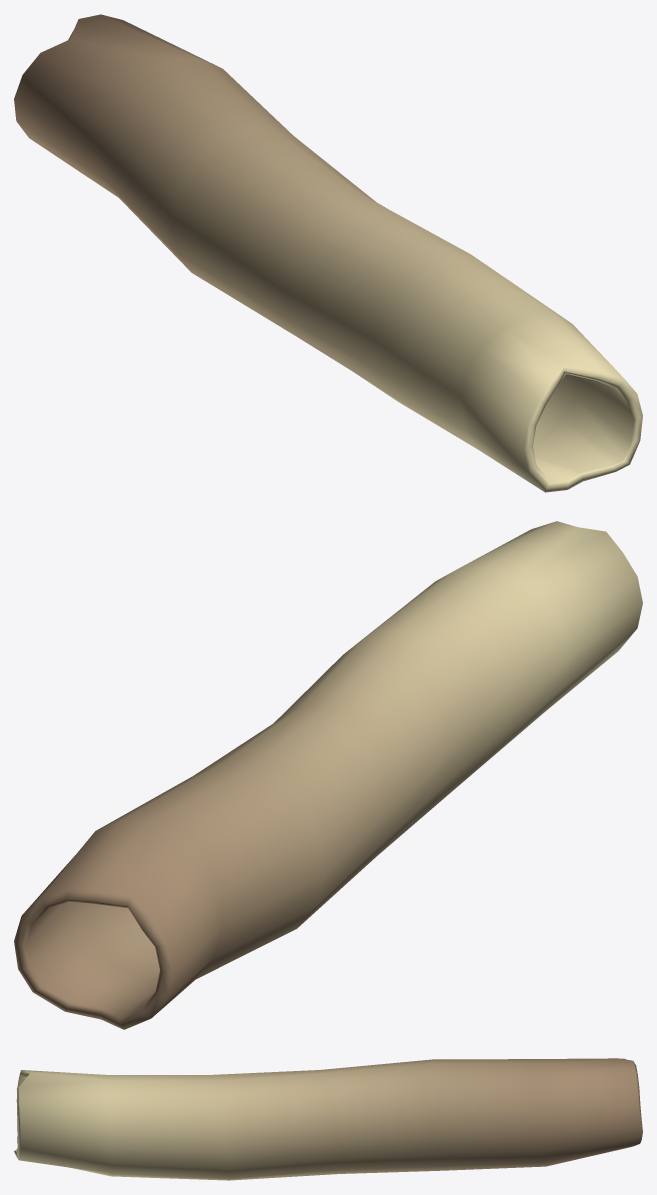
File: WoodenLog-3.fbx
The picture shows the model from 3 angles, top to bottom: view 1: azimuth 30°, elevation 25°; view 2: azimuth 150°, elevation 25°; view 3: azimuth 270°, elevation 25°; orthographic projection. The views are drawn at different scales.
Visible parts, largest first — view 1: Wood.003; view 2: Wood.003; view 3: Wood.003.
Part boxes in pixels (left/top/right/bottom): Wood.003: left=14, top=14, right=642, bottom=492; Wood.003: left=14, top=521, right=642, bottom=1029; Wood.003: left=14, top=1058, right=642, bottom=1180.
Bounding box in the file's own units: 86.38 × 79 × 415.
